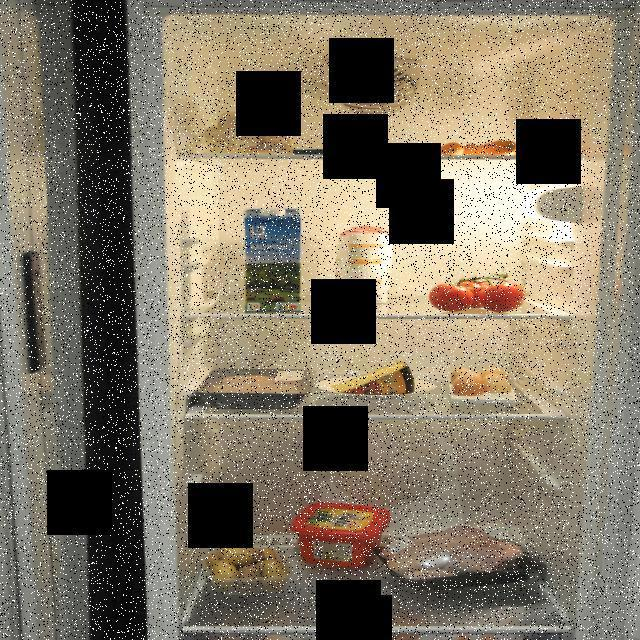butter: (289, 500, 393, 570)
carrot: (430, 138, 580, 156)
cheese: (331, 359, 416, 397)
chicken: (373, 524, 550, 596)
chicken_breast: (194, 366, 318, 411)
chocolate: (290, 146, 374, 158)
eggs: (444, 366, 522, 402)
milk: (238, 207, 304, 314)
mushrooms: (199, 110, 299, 154)
potato: (201, 543, 292, 595)
sugar: (334, 224, 394, 308)
tomato: (428, 260, 532, 313)
